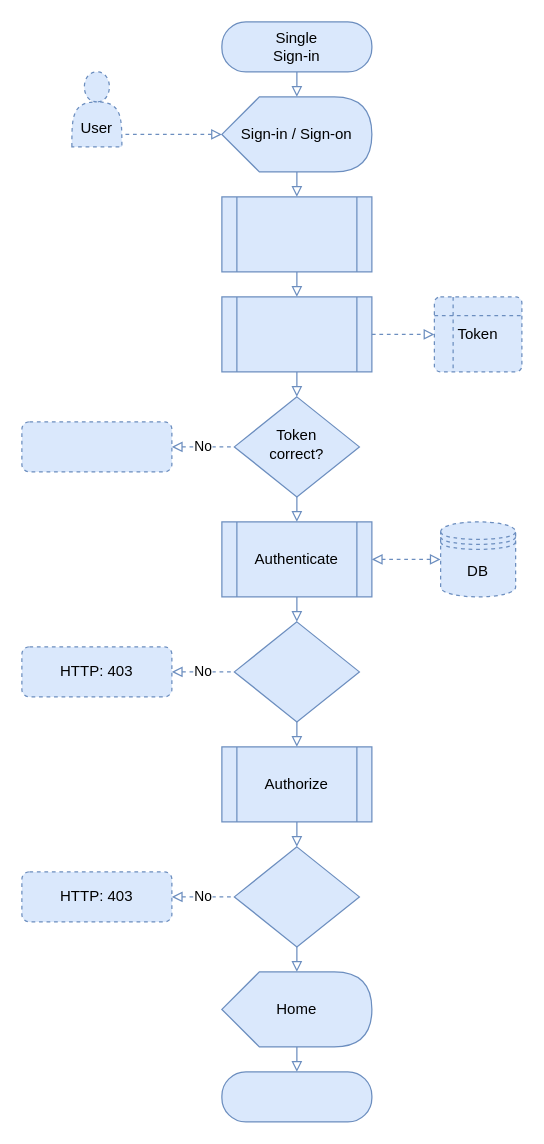
This 544x1144 diagram has some shape labels left out. The shapes that lost their labels are listed below. From the top down, each one's centre as x and y in pixels, then its label:
At [296,234]: "Filter Request".
At [296,334]: "Extract Username and Password".
At [96,446]: "HTTP: 401".
At [296,671]: "Authenticated?".
At [296,896]: "Authorized?".
At [296,1096]: "End".
